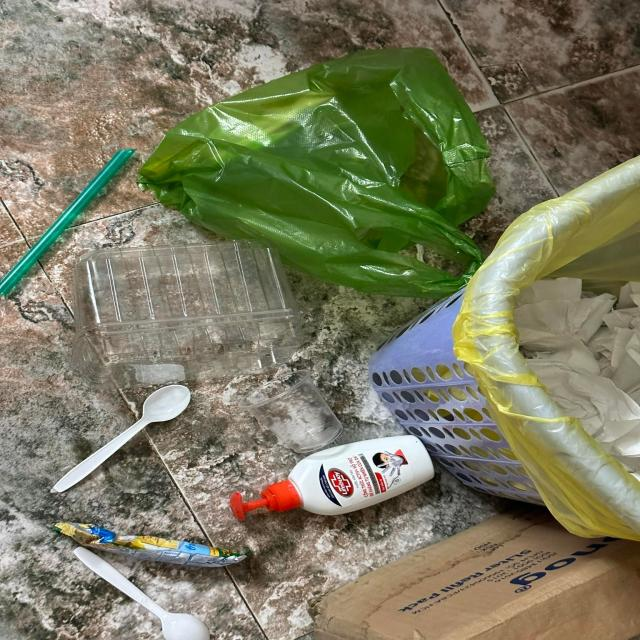bag: (136, 46, 493, 293)
bottle: (232, 436, 435, 518)
drinking straw: (0, 147, 136, 294)
packet: (48, 522, 248, 565)
plastic holder: (77, 239, 298, 373)
plastic utensil: (53, 384, 191, 493), (70, 544, 207, 640)
